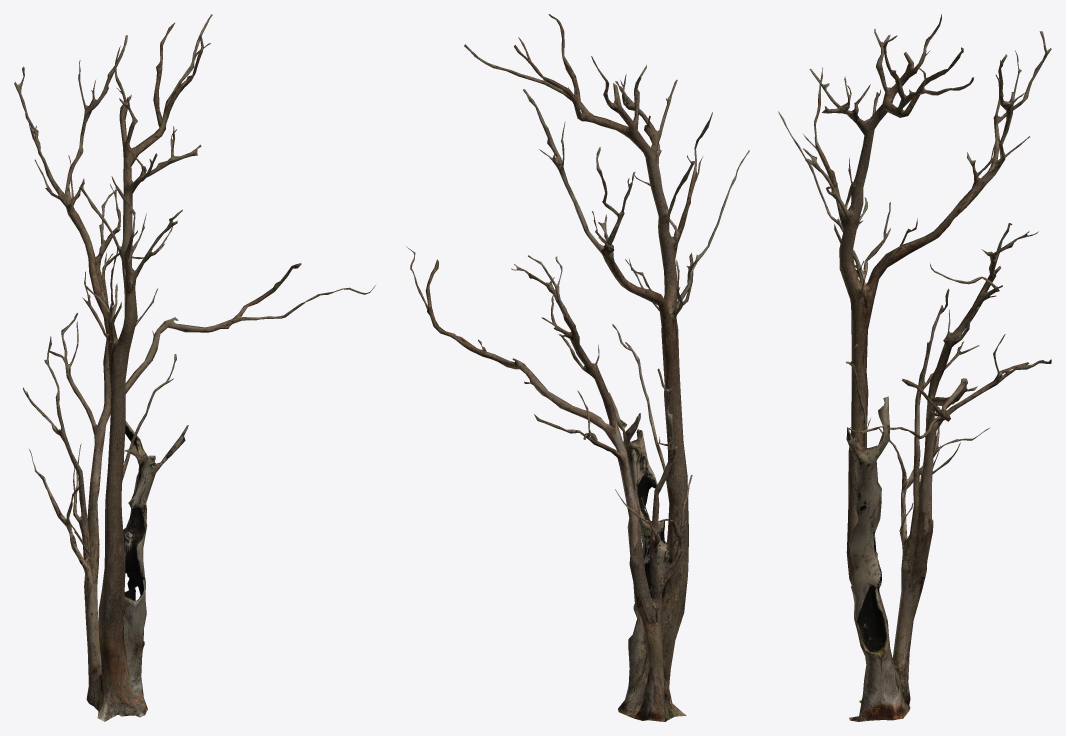
The model's file is P_DeadTree03.fbx.
3 views of the same model, side by side, from view 1: azimuth 30°, elevation 25°; view 2: azimuth 150°, elevation 25°; view 3: azimuth 270°, elevation 25° (orthographic). The views are drawn at different scales.
Parts seen in each view (by area): view 1: P_DeadTree03; view 2: P_DeadTree03; view 3: P_DeadTree03.
Boxes of the visible parts, x1,y1,x2,y2 form: P_DeadTree03: [14, 14, 375, 721]; P_DeadTree03: [406, 14, 749, 721]; P_DeadTree03: [778, 14, 1051, 721].
Size of the model in its own units: 568 by 1168 by 398.
